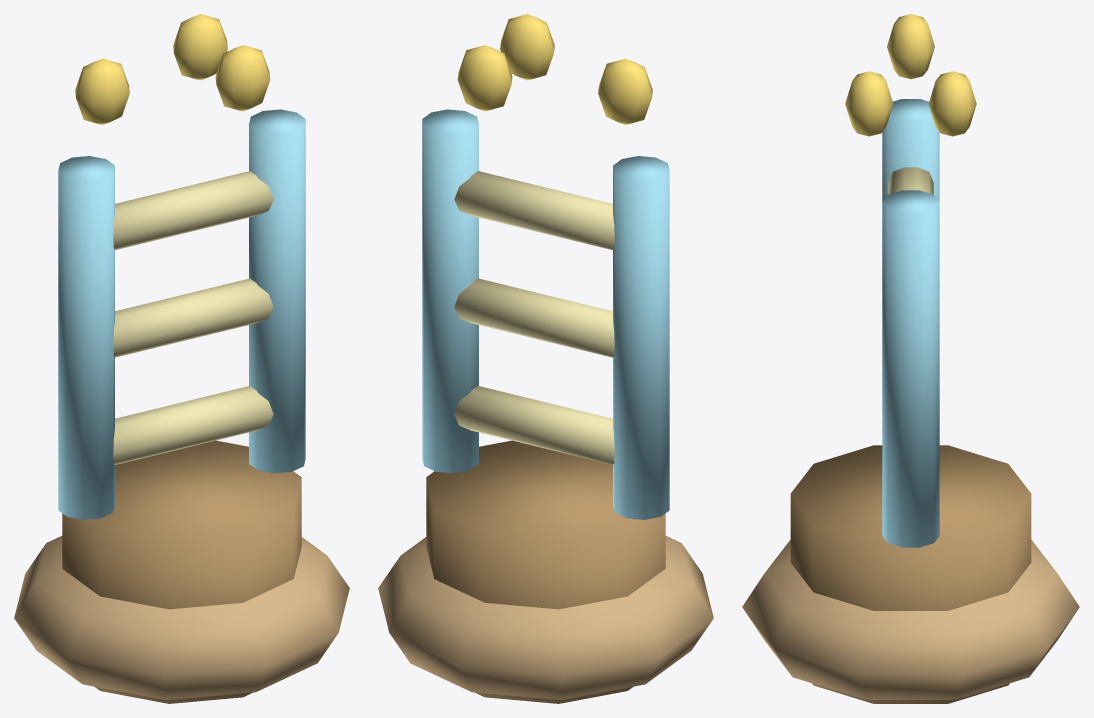
File: star_ladder_grown.fbx
3 renders of one model, left to right at view 1: azimuth 30°, elevation 25°; view 2: azimuth 150°, elevation 25°; view 3: azimuth 270°, elevation 25°, orthographic.
Parts seen in each view (by area): view 1: PLQ_star_ladder_grown; view 2: PLQ_star_ladder_grown; view 3: PLQ_star_ladder_grown.
Boxes of the visible parts, box(x1,y1,x2,y2) form: PLQ_star_ladder_grown: box(14, 14, 349, 703); PLQ_star_ladder_grown: box(378, 14, 713, 703); PLQ_star_ladder_grown: box(742, 14, 1079, 703).
Bounding box in the file's own units: 50.87 × 109 × 53.48.
